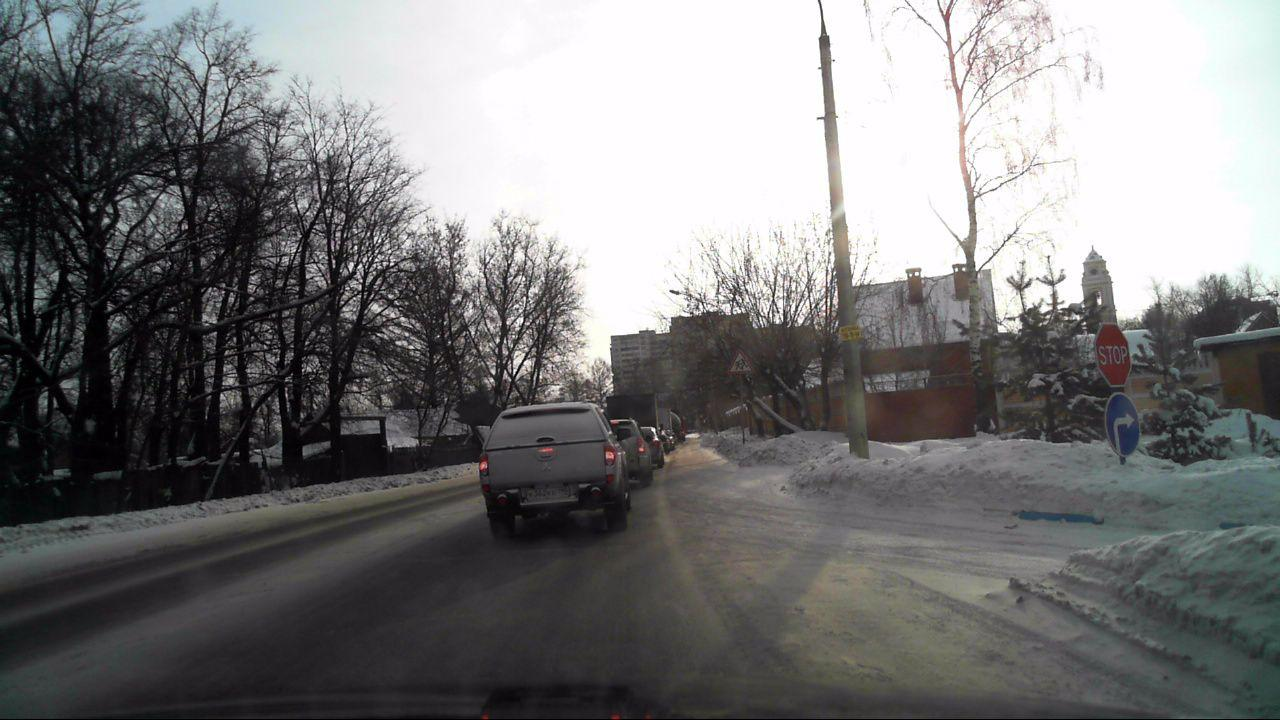1_23: (727, 348, 754, 374)
2_5: (1095, 323, 1131, 386)
4_1_2: (1103, 392, 1141, 460)
